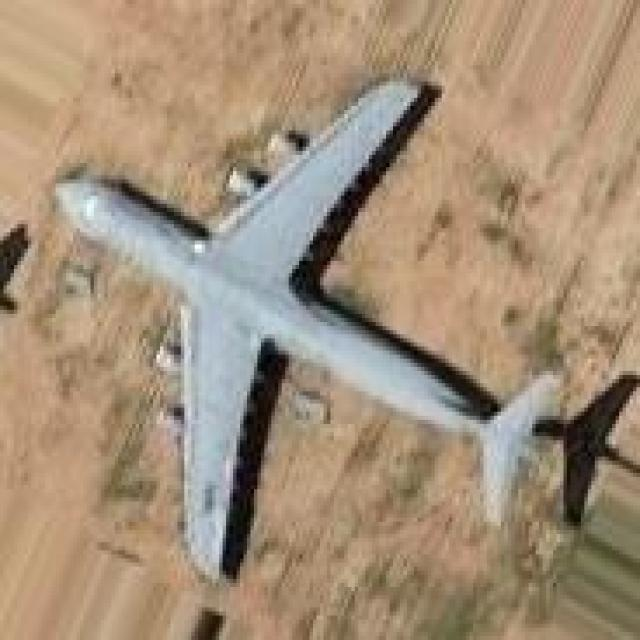C-5_TopDown: (49, 65, 564, 587)
